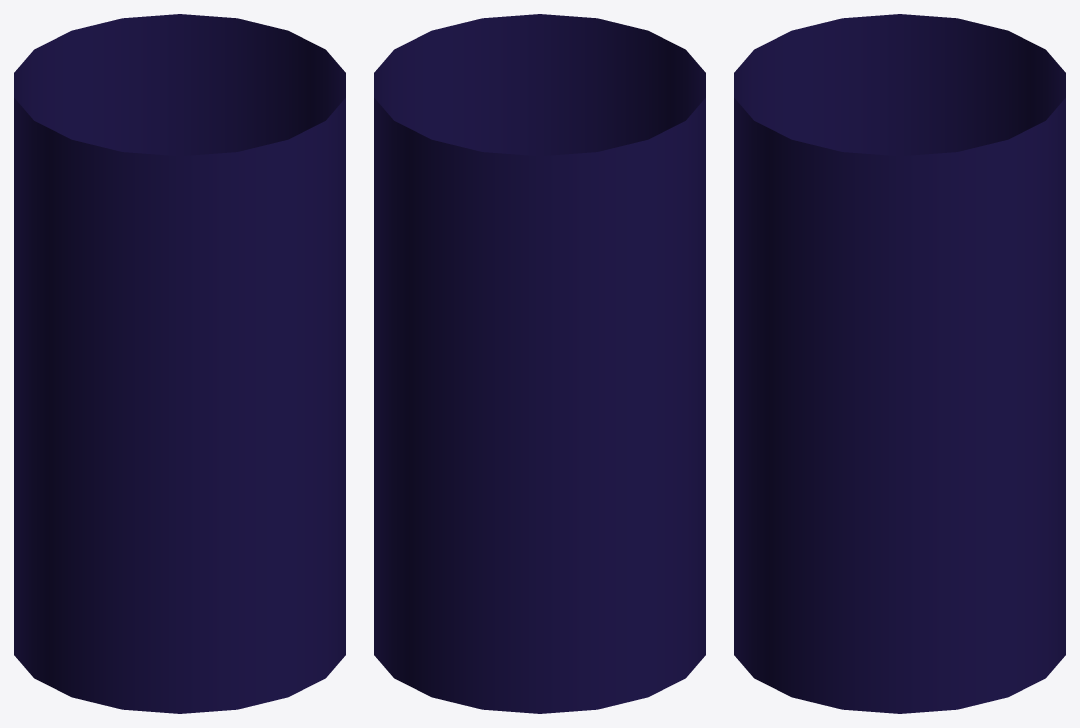
The model's file is ADML_Arena_Skybox.fbx.
The picture shows the model from 3 angles, left to right: view 1: azimuth 30°, elevation 25°; view 2: azimuth 150°, elevation 25°; view 3: azimuth 270°, elevation 25°; orthographic projection.
Parts seen in each view (by area): view 1: ADML_Arena_Skybox; view 2: ADML_Arena_Skybox; view 3: ADML_Arena_Skybox.
Part boxes in pixels (bbox=[...]): ADML_Arena_Skybox: bbox=[14, 14, 345, 713]; ADML_Arena_Skybox: bbox=[374, 14, 705, 713]; ADML_Arena_Skybox: bbox=[734, 14, 1065, 713].
Bounding box in the file's own units: 439 × 432 × 802.
